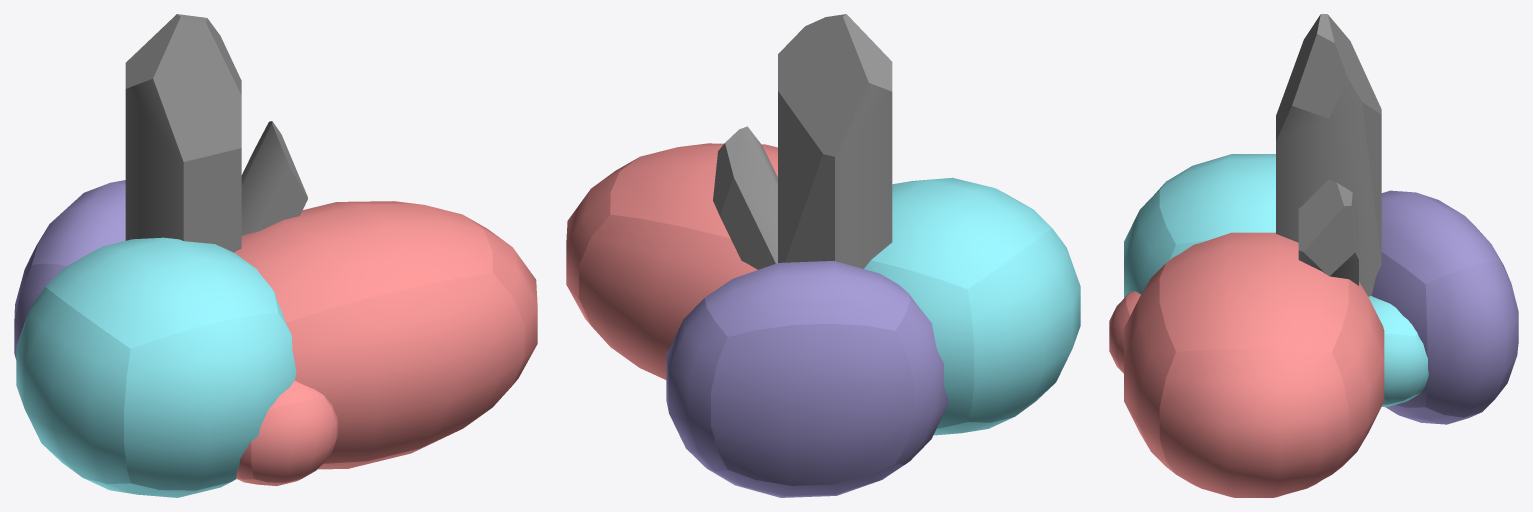
Rendered from Crystal 1.FBX.
3 views of the same model, side by side, from view 1: azimuth 30°, elevation 25°; view 2: azimuth 150°, elevation 25°; view 3: azimuth 270°, elevation 25° (orthographic). The views are drawn at different scales.
Visible parts, largest first — view 1: Box001, Box002, Cylinder001, Box004, Box003; view 2: Box003, Box001, Cylinder001, Box002; view 3: Box002, Box003, Cylinder001, Box001, Box005, Box004.
Boxes of the visible parts, bbox=[...] form: Box001: bbox=[16, 237, 296, 497]; Box002: bbox=[234, 201, 537, 469]; Cylinder001: bbox=[125, 14, 307, 252]; Box004: bbox=[236, 381, 338, 486]; Box003: bbox=[14, 180, 125, 359]; Box003: bbox=[666, 261, 948, 497]; Box001: bbox=[864, 177, 1080, 435]; Cylinder001: bbox=[713, 14, 892, 269]; Box002: bbox=[566, 143, 777, 379]; Box002: bbox=[1124, 232, 1384, 497]; Box003: bbox=[1371, 190, 1518, 424]; Cylinder001: bbox=[1276, 14, 1381, 296]; Box001: bbox=[1124, 154, 1275, 297]; Box005: bbox=[1368, 296, 1428, 406]; Box004: bbox=[1109, 291, 1140, 373].
Bounding box in the file's own units: 12.64 × 10.99 × 10.14.
